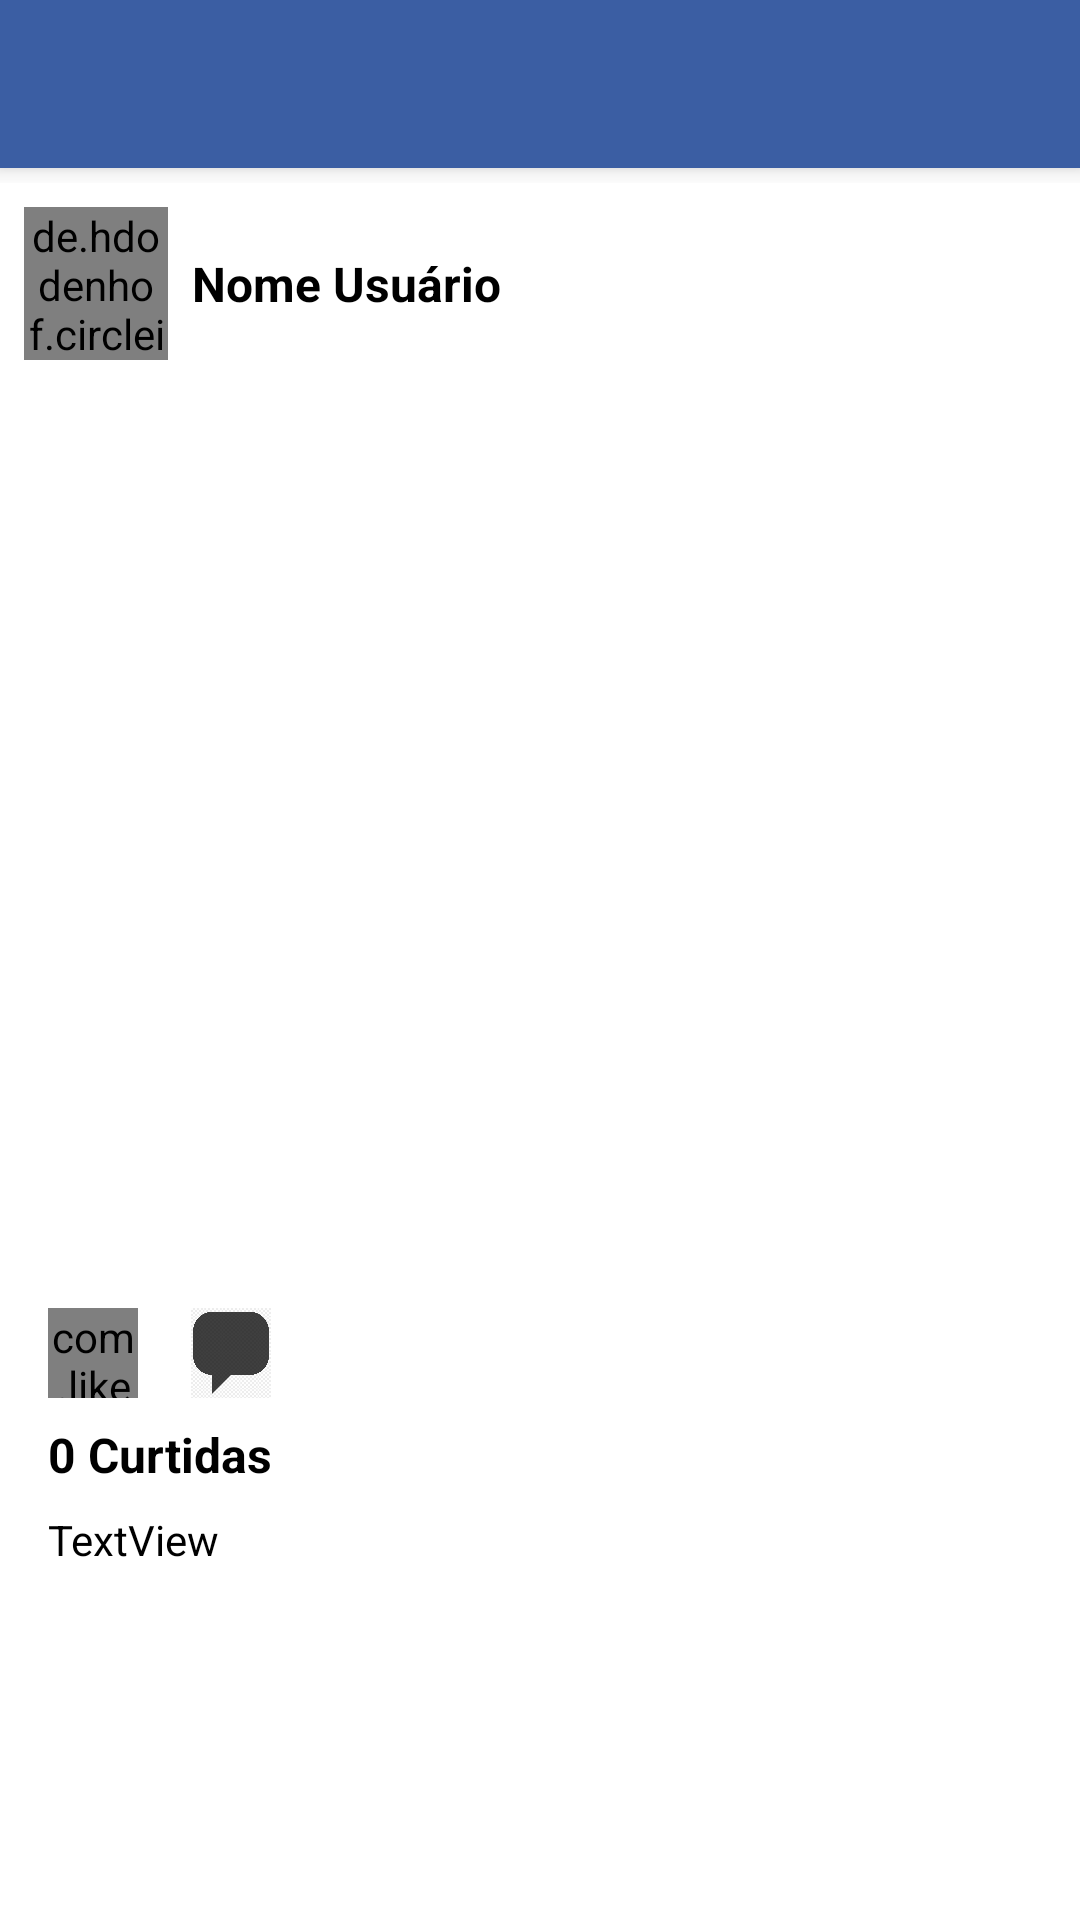

Screen size 1080w x 1920h. Icon name, then its center in pixels as (x,y):
comentario: (231,1353)
